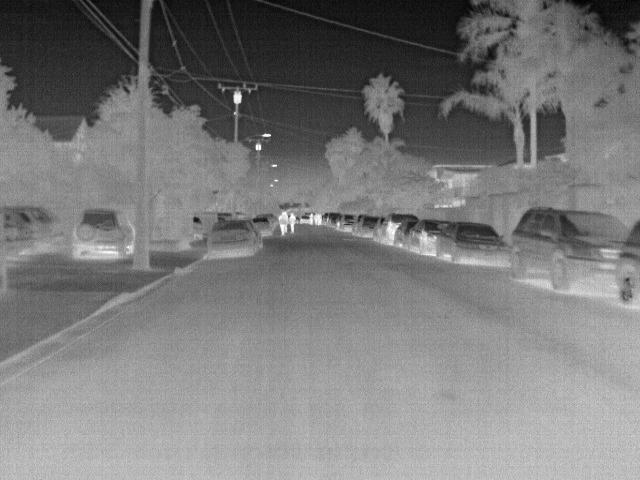car: (514, 208, 630, 297), (72, 207, 138, 263), (437, 221, 512, 270), (612, 214, 640, 304), (203, 220, 262, 262), (13, 206, 65, 248), (5, 205, 39, 256), (412, 218, 449, 258), (382, 212, 416, 243), (394, 220, 416, 246), (359, 215, 381, 236), (253, 218, 273, 236), (339, 214, 355, 232), (327, 211, 340, 225), (299, 214, 312, 225)
person: (277, 210, 290, 239), (286, 211, 298, 234), (309, 211, 316, 225)
